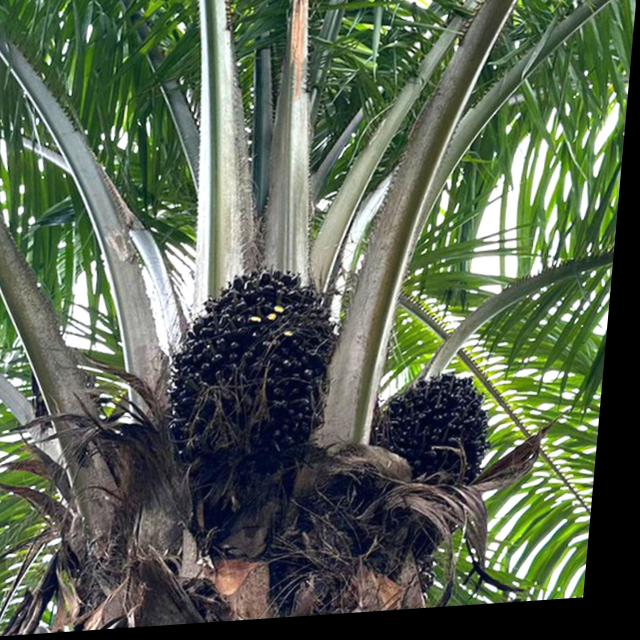unripe: (163, 258, 353, 472), (378, 369, 509, 501)
